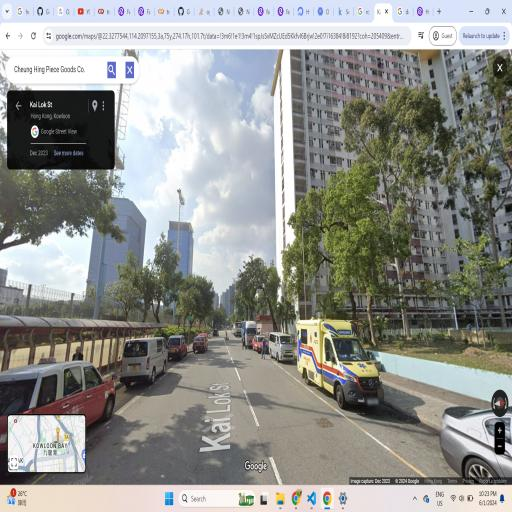Roads: (23, 324, 505, 474)
Trees: (341, 94, 445, 335), (288, 188, 409, 334), (122, 243, 230, 340)
